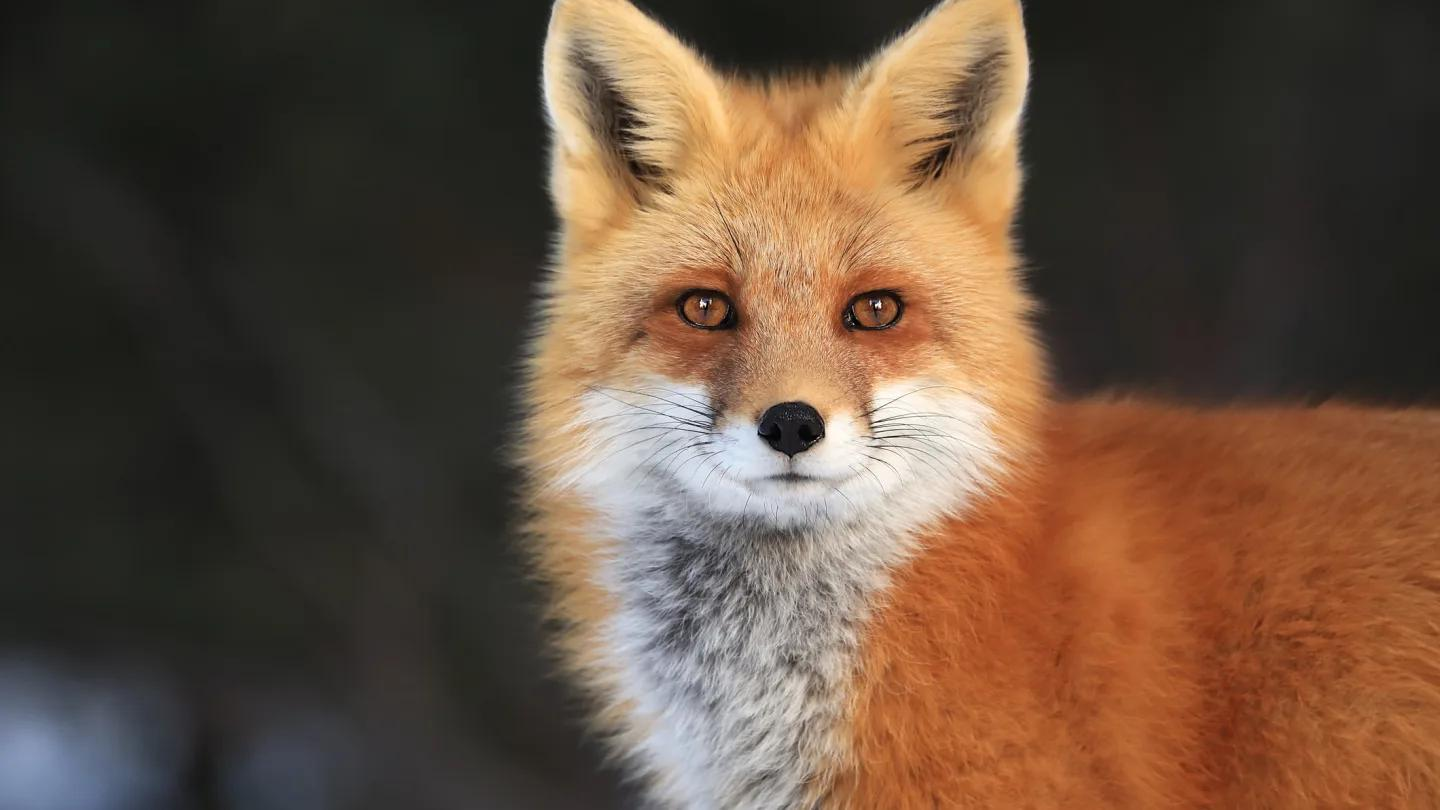fox: (497, 0, 1440, 810)
